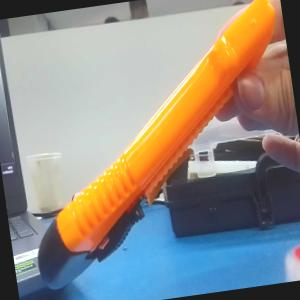estilete: (5, 0, 300, 293)
